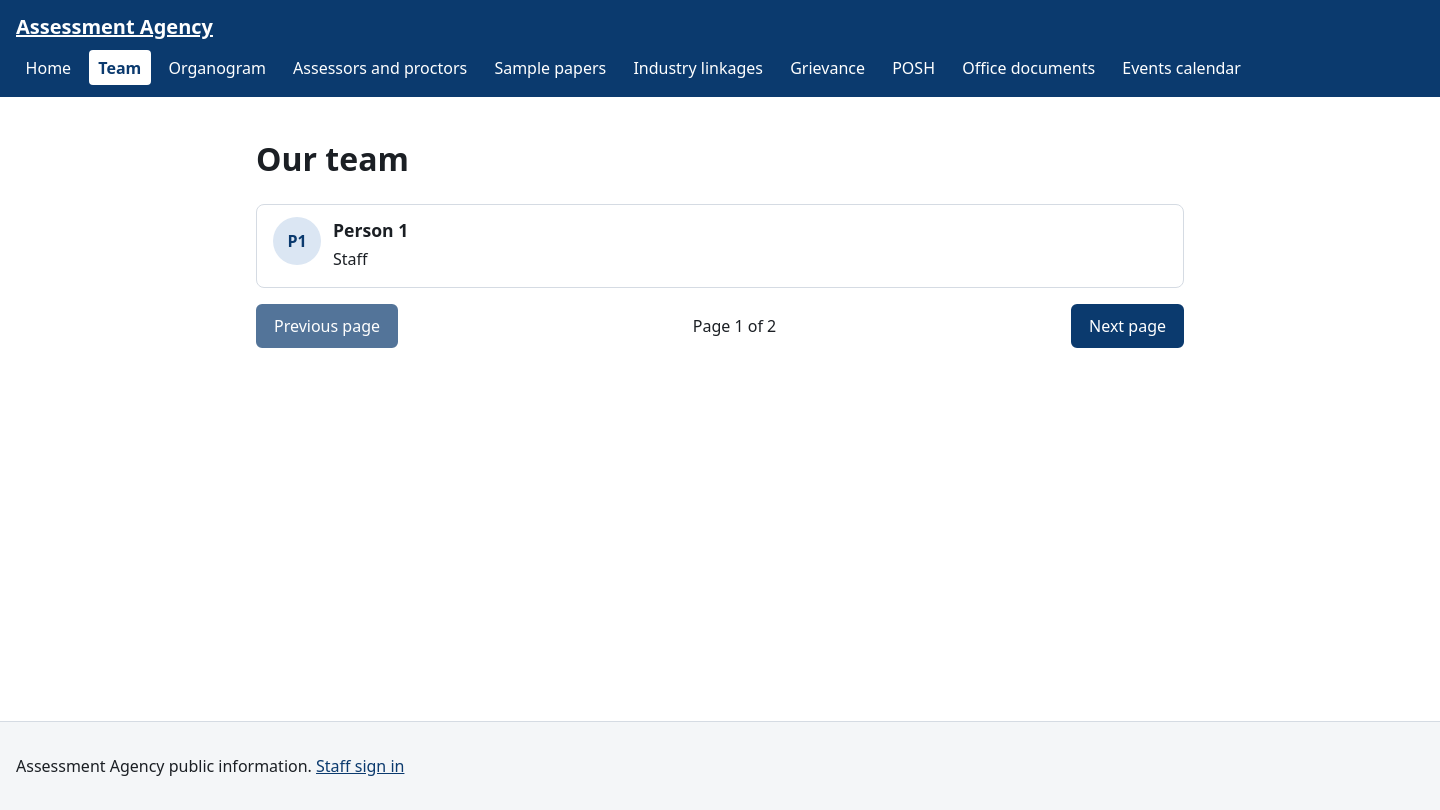
Test: pages through a long list using ?page=
The image size is (1440, 810).
Check: the heading "Person 1" is shown, box [333, 217, 408, 244]
Check: the button "Previous page" is disabled, box [256, 304, 398, 348]
Click the button "Next page" at [1128, 326], box [1071, 304, 1184, 348]
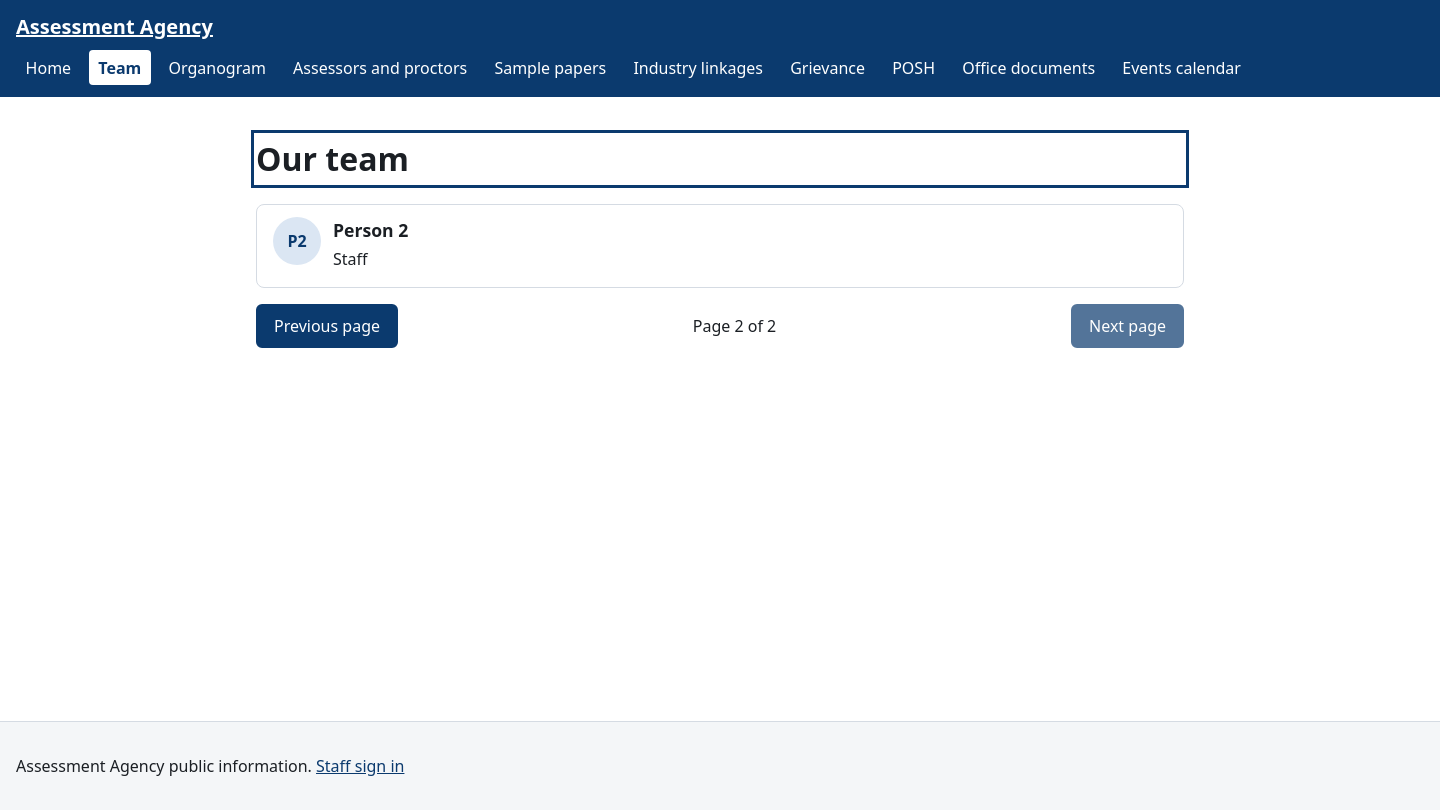
Check: the heading "Person 2" is shown, box [333, 217, 408, 244]
Check: the text "Page 2 of 2" is shown, box [693, 314, 776, 338]
Check: the button "Next page" is disabled, box [1071, 304, 1184, 348]
